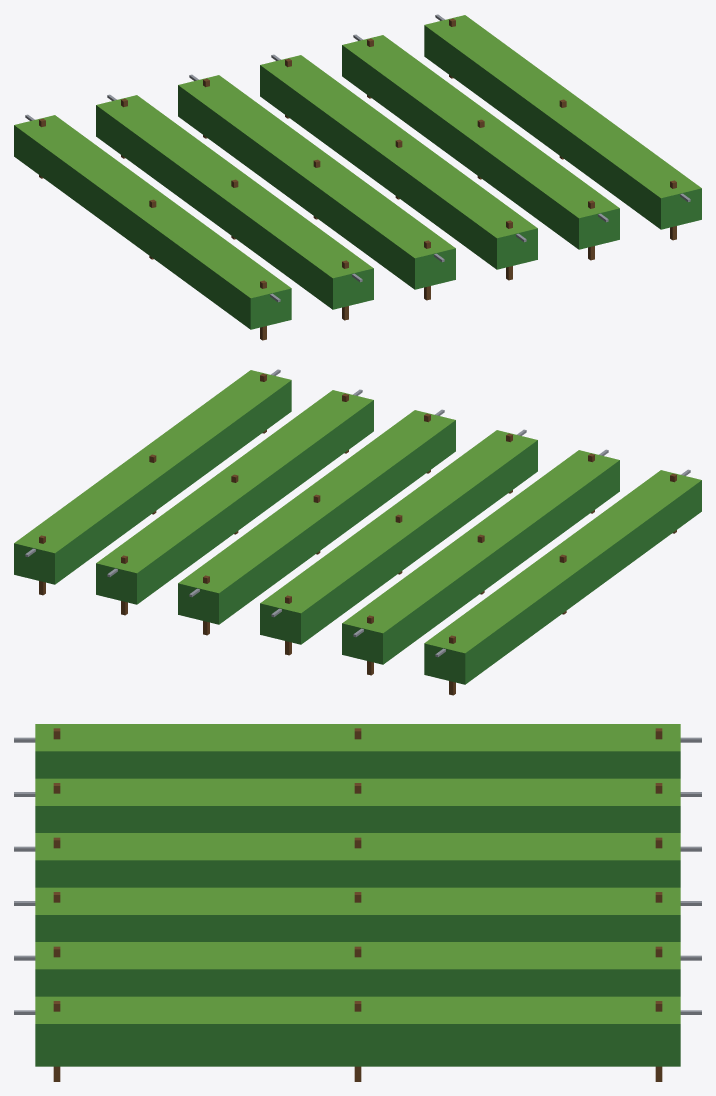
The model's file is vinedo.obj.
3 views of the same model, one above another, from view 1: azimuth 30°, elevation 25°; view 2: azimuth 150°, elevation 25°; view 3: azimuth 270°, elevation 25° (orthographic). The views are drawn at different scales.
Visible parts, largest first — view 1: vinedo; view 2: vinedo; view 3: vinedo.
Part boxes in pixels (left/top/right/bottom): vinedo: left=14, top=14, right=701, bottom=340; vinedo: left=14, top=369, right=701, bottom=695; vinedo: left=14, top=724, right=701, bottom=1081.
Size of the model in its own units: 16.5 by 2 by 16.
